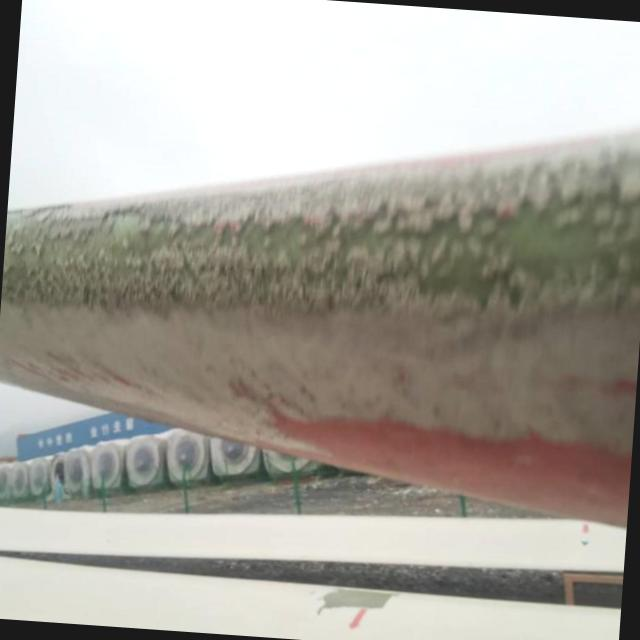corrosion: (3, 104, 640, 407)
